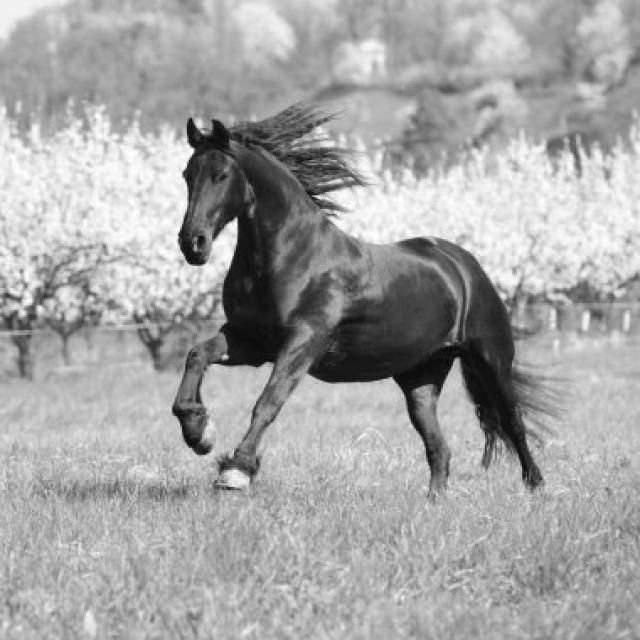Animal: (174, 104, 546, 494)
